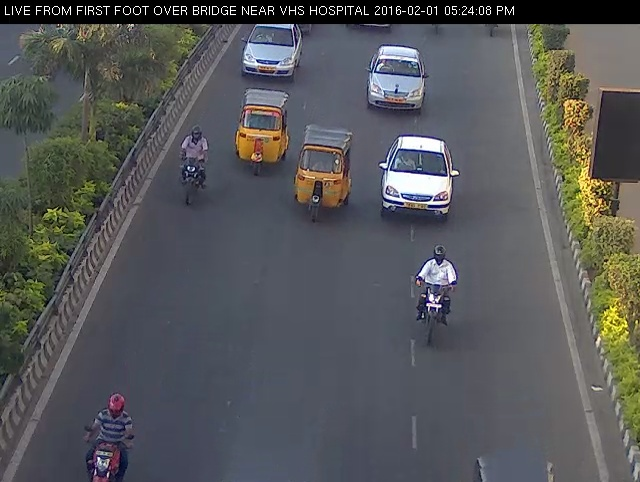Car: (371, 129, 464, 226), (289, 121, 362, 229), (356, 32, 435, 124), (227, 81, 295, 181), (229, 15, 314, 86), (465, 436, 570, 482)
Person: (400, 235, 464, 354), (70, 387, 150, 482), (161, 121, 213, 211)
